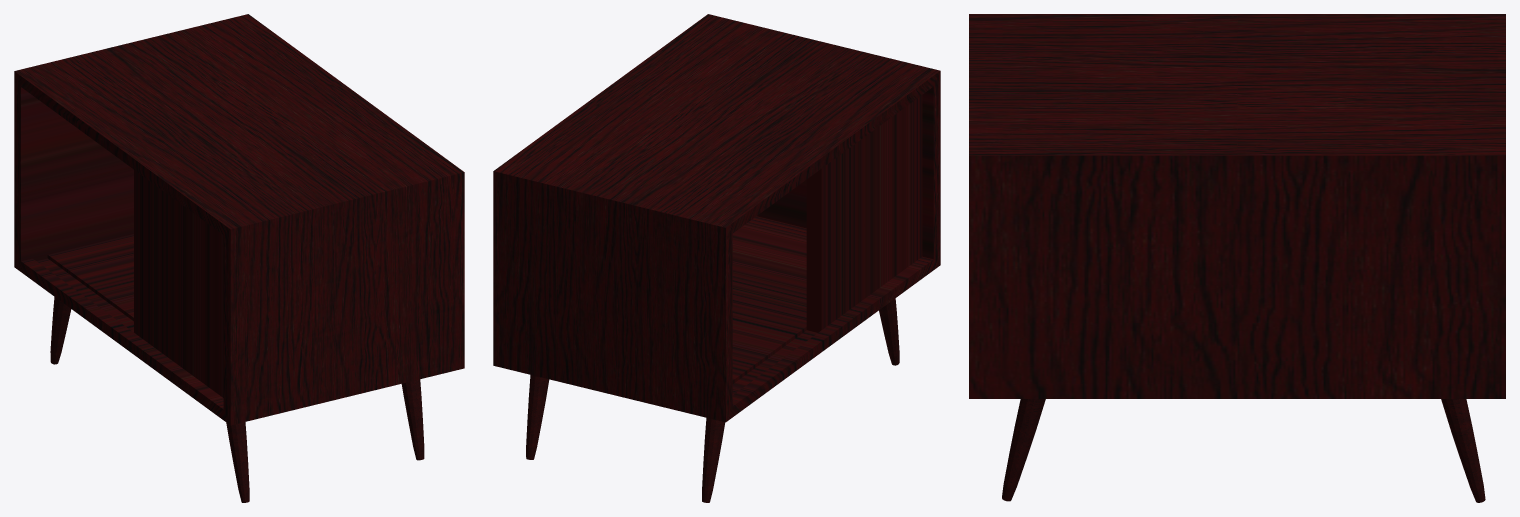
The model's file is tumba.fbx.
The picture shows the model from 3 angles, left to right: view 1: azimuth 30°, elevation 25°; view 2: azimuth 150°, elevation 25°; view 3: azimuth 270°, elevation 25°; orthographic projection. The views are drawn at different scales.
Parts seen in each view (by area): view 1: tumba; view 2: tumba; view 3: tumba.
Boxes of the visible parts, x1,y1,x2,y2 form: tumba: (14,14,464,502); tumba: (493,14,940,502); tumba: (969,14,1505,502).
Bounding box in the file's own units: 50 × 59.53 × 80.
Materials: 1 (1 with a texture image).
